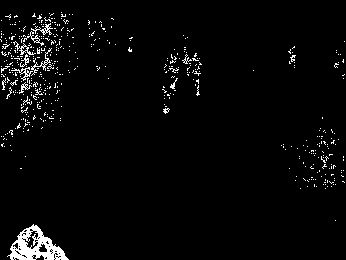person: (160, 53, 179, 114)
